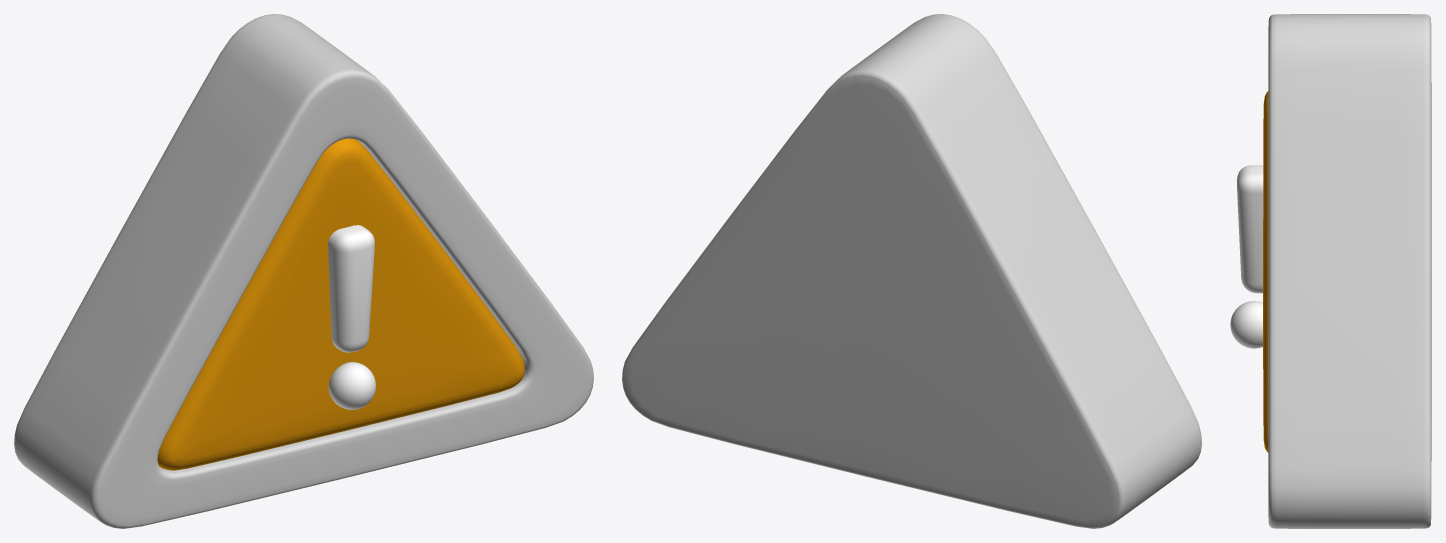
File: caution-animated-3d-icon-381118846869.glb
3 views of the same model, side by side, from view 1: azimuth 30°, elevation 25°; view 2: azimuth 150°, elevation 25°; view 3: azimuth 270°, elevation 25° (orthographic).
Parts seen in each view (by area): view 1: Triangle 2, Triangle 1, Warning Sign.001; view 2: Triangle 2; view 3: Triangle 2, Warning Sign.001, Triangle 1.
Part boxes in pixels (x1,y1,x2,y2): Triangle 2: [14, 14, 593, 528]; Triangle 1: [157, 138, 524, 470]; Warning Sign.001: [328, 225, 375, 409]; Triangle 2: [622, 14, 1201, 528]; Triangle 2: [1268, 14, 1431, 528]; Warning Sign.001: [1230, 165, 1263, 348]; Triangle 1: [1263, 91, 1268, 452].
Bounding box in the file's own units: 2.4 × 1.86 × 0.8356.
